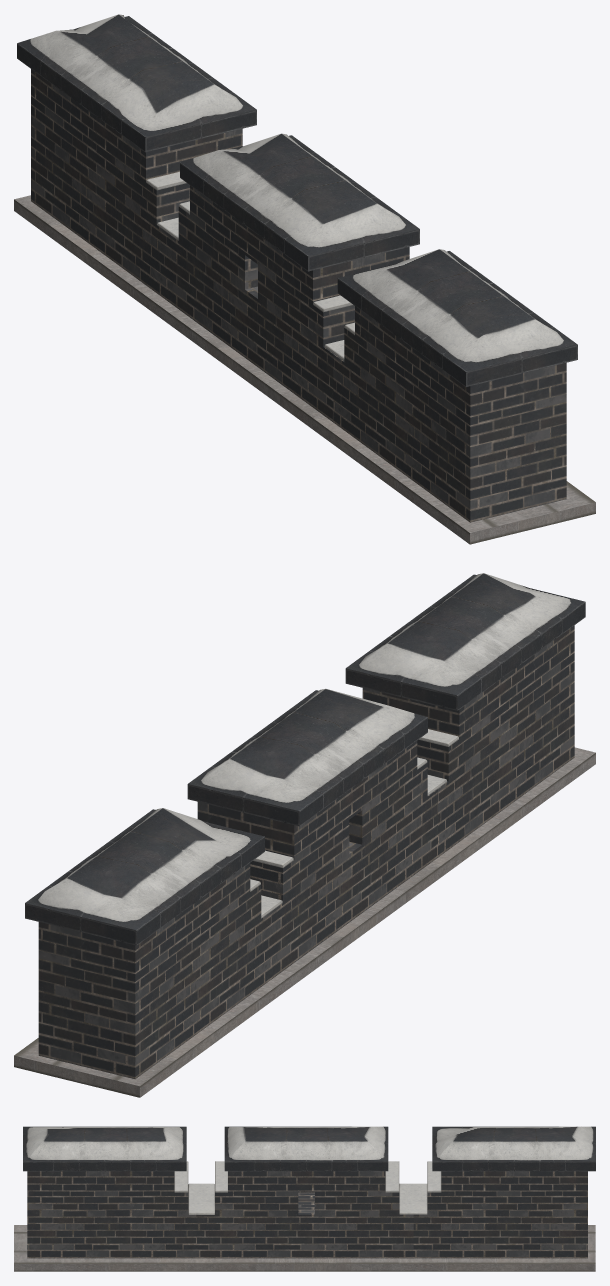
File: SM_GateGuardPost_Parapet_002.fbx
The picture shows the model from 3 angles, top to bottom: view 1: azimuth 30°, elevation 25°; view 2: azimuth 150°, elevation 25°; view 3: azimuth 270°, elevation 25°; orthographic projection. The views are drawn at different scales.
Parts seen in each view (by area): view 1: SM_GateGuardPost_Parapet_002; view 2: SM_GateGuardPost_Parapet_002; view 3: SM_GateGuardPost_Parapet_002.
Part boxes in pixels (bbox=[...]): SM_GateGuardPost_Parapet_002: bbox=[14, 14, 595, 544]; SM_GateGuardPost_Parapet_002: bbox=[14, 573, 595, 1097]; SM_GateGuardPost_Parapet_002: bbox=[14, 1126, 595, 1271].
Size of the model in its own units: 114 by 715 by 161.
Materials: 4 (4 with a texture image).
